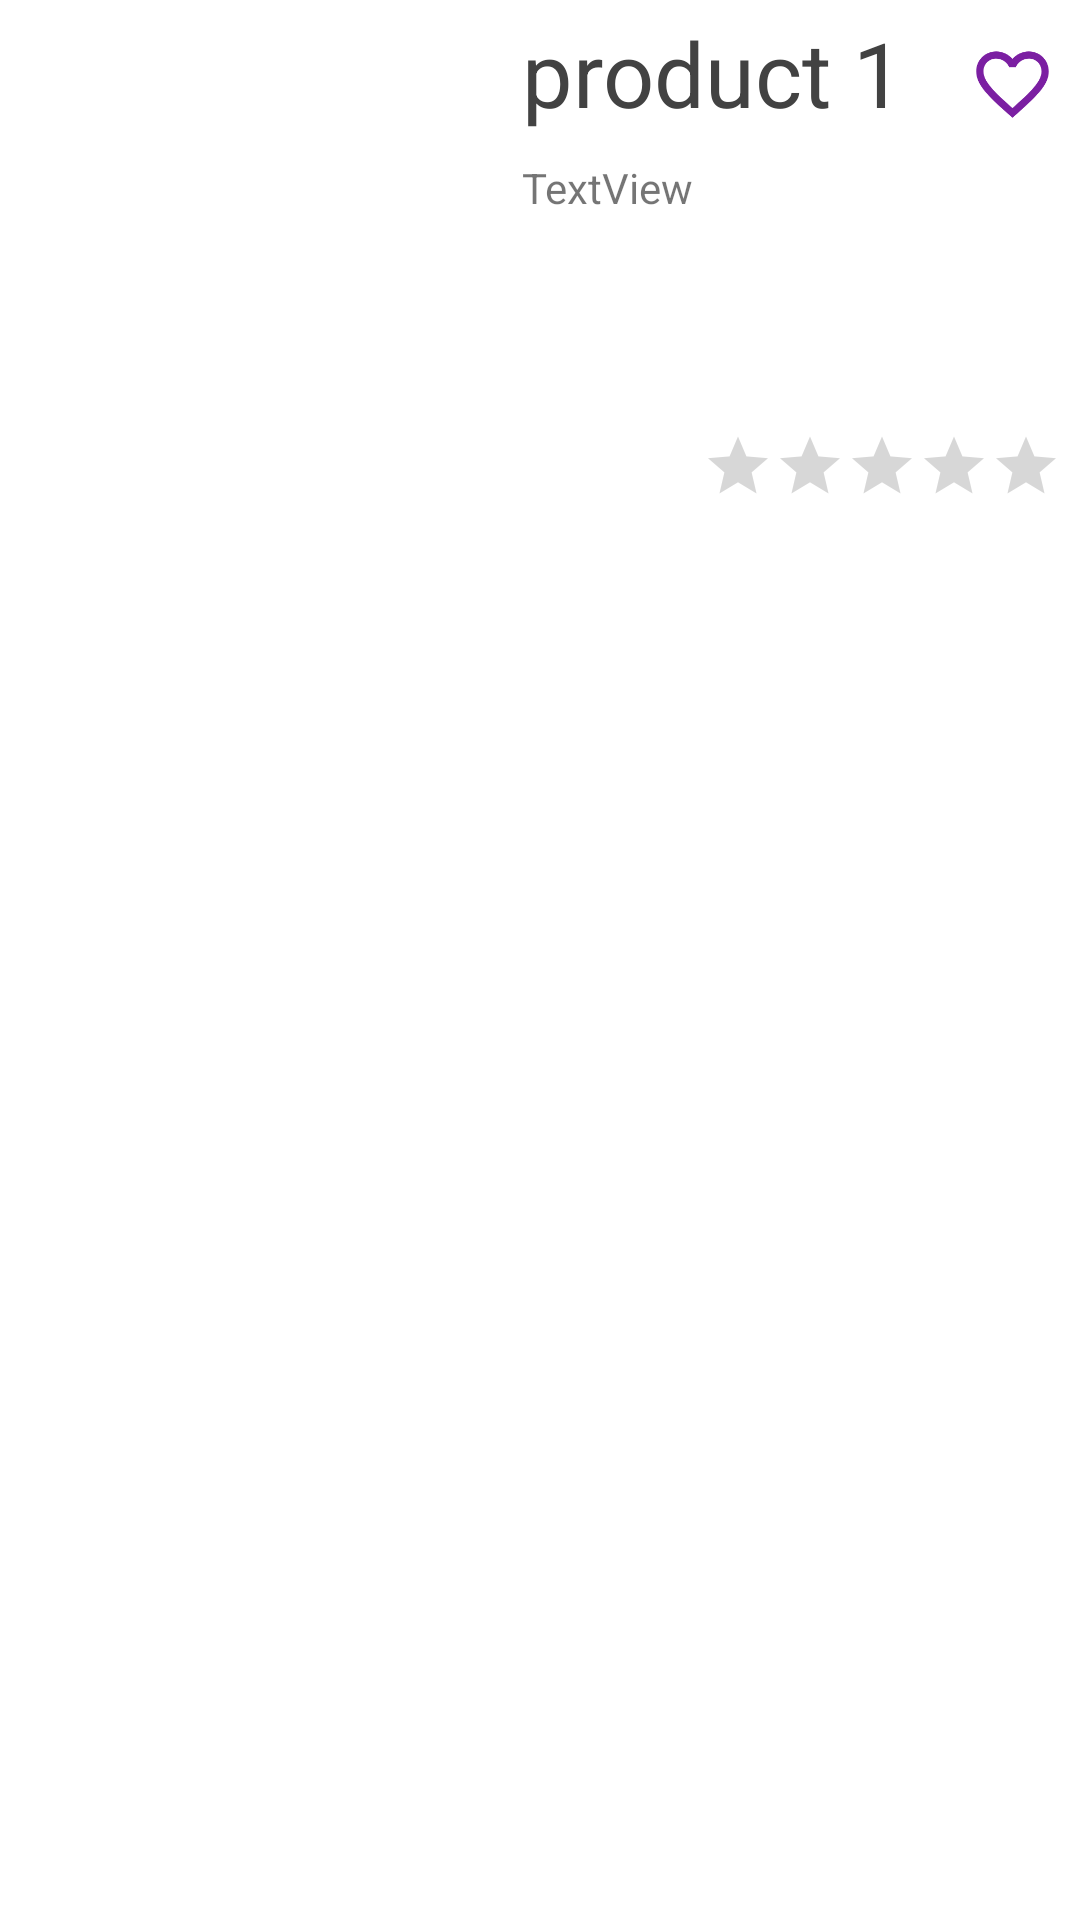

Locate icon controls on the screen. Image size 1080px x 1920px, boxes as (x1, y1, x2, y2).
favorite border: (976, 51, 1049, 118)
